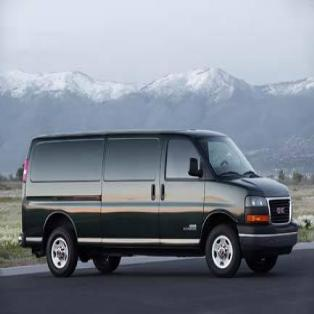Auto: (18, 130, 300, 280)
